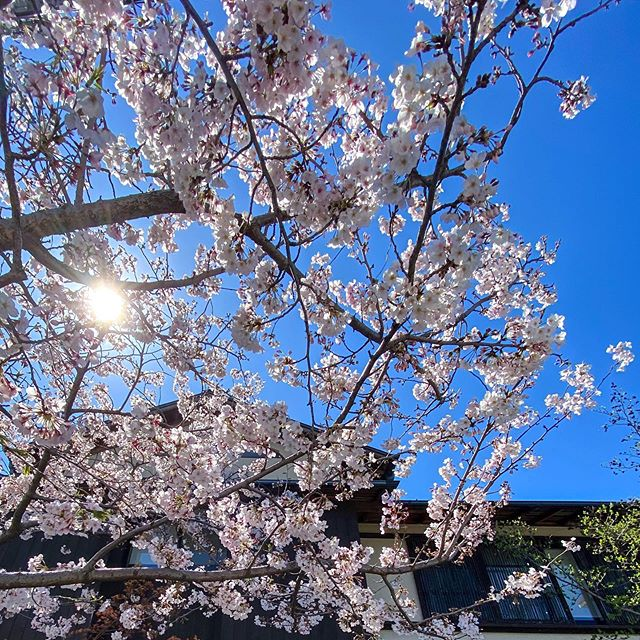building: (74, 422, 640, 640)
sky: (451, 1, 640, 452)
tree: (1, 1, 520, 563)
